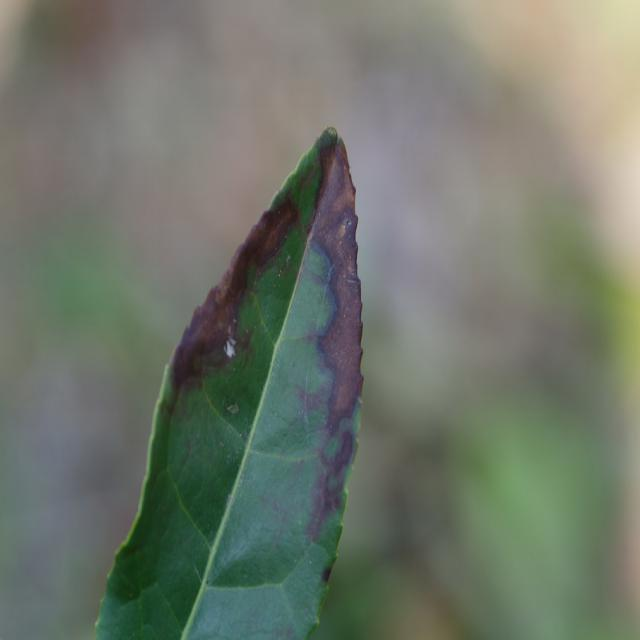Tea cloud leaf blight: (160, 121, 388, 536)
